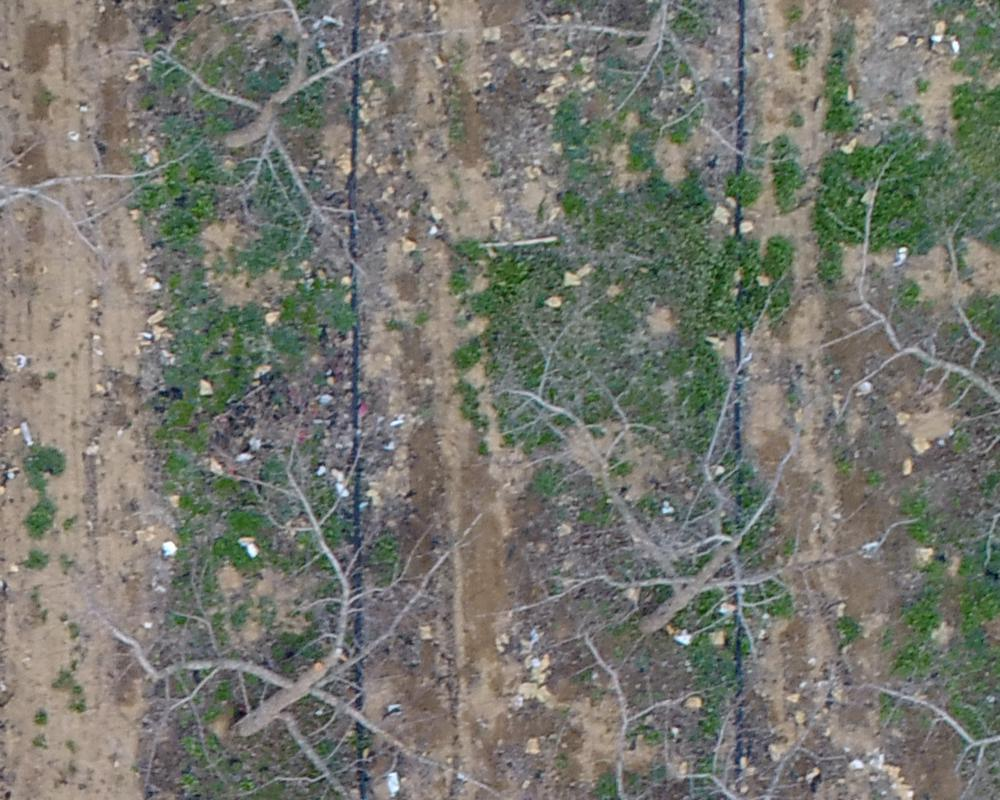apple: (100, 405, 515, 790), (490, 292, 913, 657), (152, 10, 395, 289)
